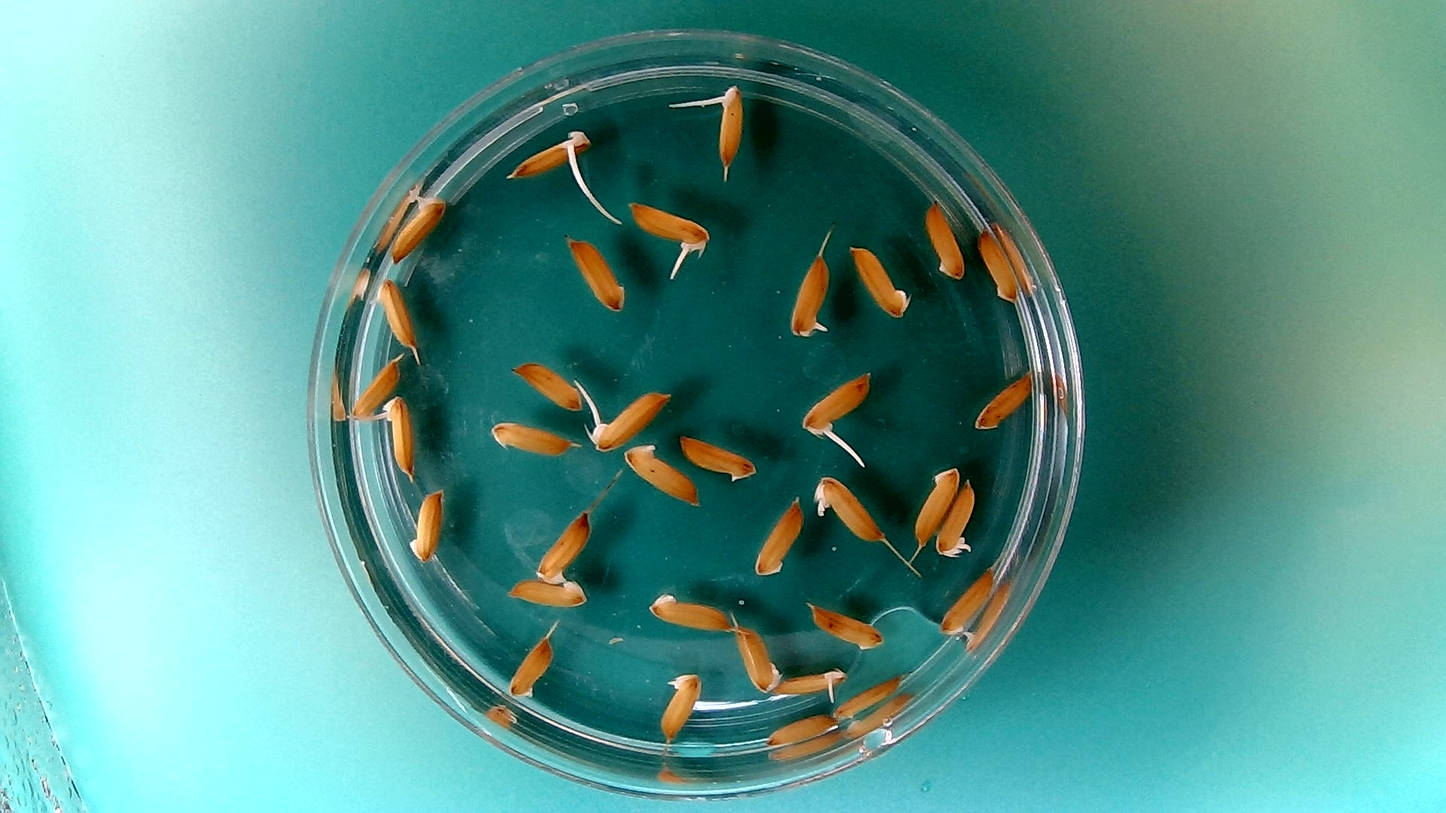no: (355, 273, 437, 357), (621, 438, 701, 506), (847, 240, 913, 320), (562, 233, 628, 312), (750, 493, 806, 580), (532, 508, 593, 585), (343, 353, 405, 427), (675, 431, 758, 485), (938, 565, 997, 639), (911, 463, 961, 549), (510, 357, 587, 411), (645, 588, 733, 634), (807, 601, 886, 652), (971, 370, 1035, 432), (765, 703, 840, 754), (923, 198, 967, 281), (486, 417, 575, 458), (975, 223, 1020, 303), (828, 674, 905, 720), (506, 632, 556, 700), (734, 622, 780, 693), (406, 484, 446, 564), (502, 574, 589, 610)
yes: (811, 473, 887, 545), (800, 368, 875, 440), (590, 389, 673, 454), (622, 196, 711, 254), (505, 129, 596, 185), (389, 187, 448, 264), (786, 252, 834, 340), (656, 668, 706, 743), (934, 475, 978, 560), (377, 392, 418, 480), (713, 81, 745, 169), (770, 665, 848, 700)
